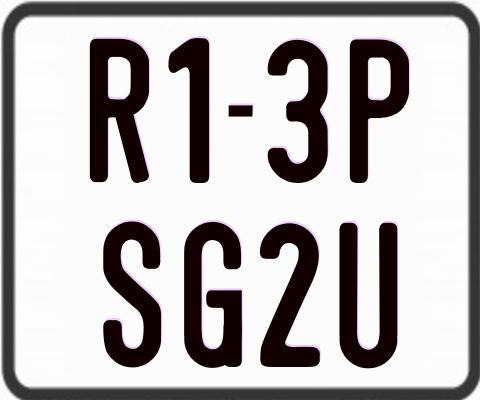1: (166, 36, 213, 186)
2: (257, 223, 318, 370)
3: (268, 40, 330, 189)
G: (183, 221, 246, 368)
P: (349, 36, 409, 182)
R: (88, 37, 152, 187)
S: (103, 218, 165, 365)
U: (338, 220, 401, 369)
